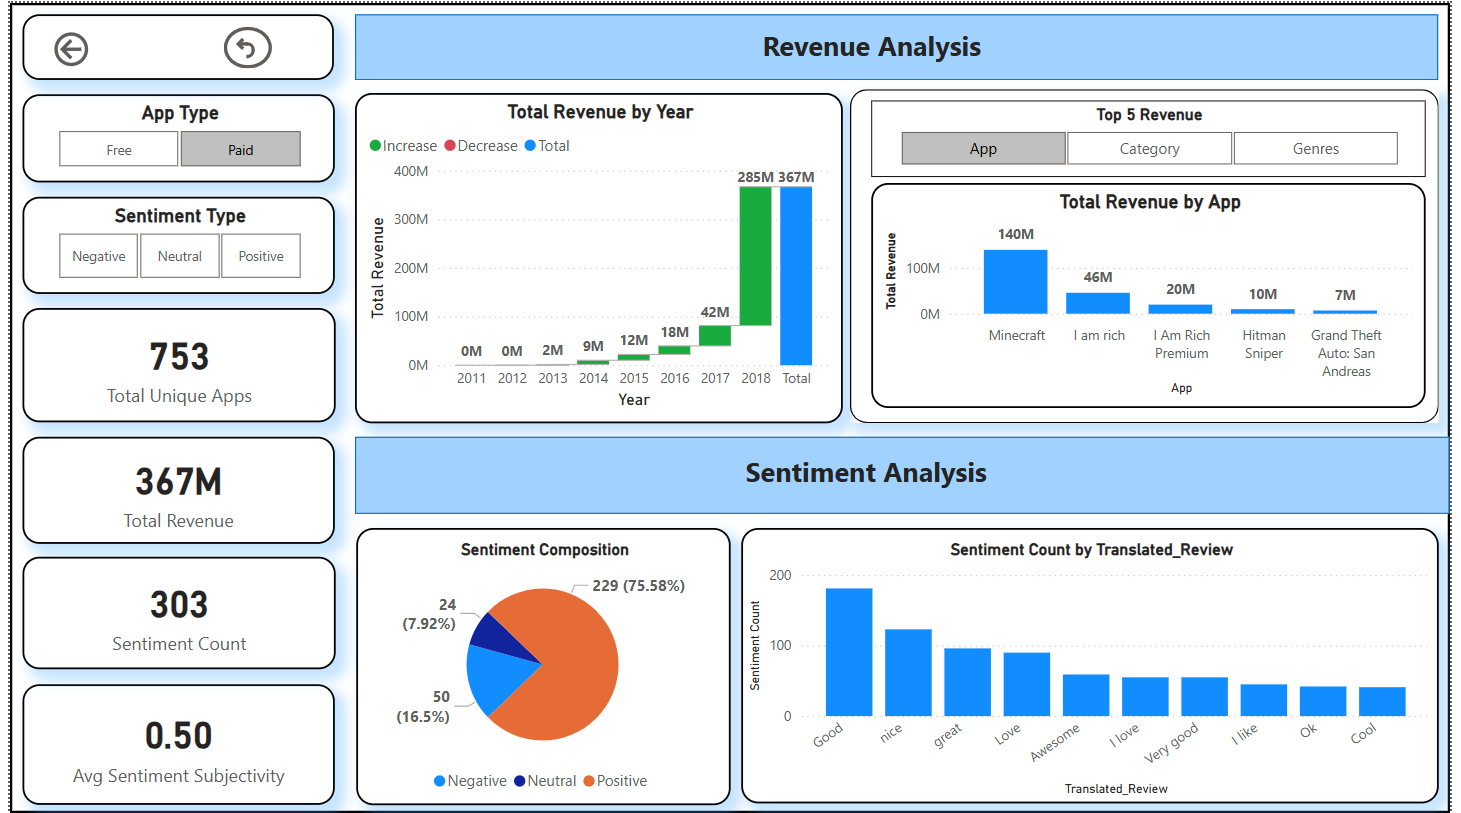

The dashboard page shown, as its layout file describes it:
{"tool":"powerbi","page":{"name":"Revenue & Sentiment","canvas":[1280,720],"ordinal":1},"visuals":[{"type":"shape","box":[0,0,1280,720],"z":0},{"type":"shape","box":[307.1,10,962.9,58.6],"z":1000},{"type":"textbox","box":[598.6,17.1,334.3,47.1],"z":2000},{"type":"slicer","title":"App Type","fields":{"Values":["Playstore_Cleaned.Type"]},"box":[11.2,81.2,277.5,78.8],"z":3000},{"type":"slicer","title":"Sentiment Type","fields":{"Values":["Reviews_Cleaned.Sentiment"]},"box":[11.2,172.5,277.5,86.2],"z":4000},{"type":"card","fields":{"Values":["All_Measures.Total Unique Apps"]},"box":[11.2,271.2,278.8,101.2],"z":5000},{"type":"card","fields":{"Values":["All_Measures.Avg Sentiment Subjectivity"]},"box":[11.2,605,277.5,107.5],"z":6000},{"type":"card","fields":{"Values":["All_Measures.Total Revenue"]},"box":[11.2,385,277.5,95],"z":7000},{"type":"card","fields":{"Values":["All_Measures.Sentiment Count"]},"box":[11.2,492.5,278.8,100],"z":8000},{"type":"waterfallChart","fields":{"Y":["All_Measures.Total Revenue"],"Category":["DimDate.Year"]},"box":[306.7,80,433.3,293.3],"z":9000},{"type":"shape","box":[746.7,76.7,523.3,296.7],"z":12000},{"type":"clusteredColumnChart","fields":{"Category":["Playstore_Cleaned.App"],"Y":["All_Measures.Total Revenue"]},"box":[765.7,160,492.9,200],"z":13000},{"type":"shape","box":[11.4,10,277.1,58.6],"z":14000},{"type":"slicer","title":"Top 5 Revenue","fields":{"Values":["revenue category.revenue category"]},"box":[765.4,86.9,493.1,67.7],"z":15000},{"type":"actionButton","box":[34.3,21.4,100,40],"z":16000},{"type":"actionButton","box":[190,21.4,42.9,37.1],"z":17000},{"type":"shape","box":[307.1,385.7,972.9,68.6],"z":18000},{"type":"textbox","box":[588.6,395.7,344.3,47.1],"z":19000},{"type":"pieChart","title":"Sentiment Composition","fields":{"Category":["Reviews_Cleaned.Sentiment"],"Y":["All_Measures.Sentiment Count"]},"box":[307.5,466.2,332.5,246.2],"z":20000},{"type":"clusteredColumnChart","fields":{"Category":["Reviews_Cleaned.Translated_Review"],"Y":["All_Measures.Sentiment Count"]},"box":[650,466.2,620,245],"z":21000}]}

Visuals, with their boxes in screenshot pixels (x1, y1, x2, y2), scaled from the page's 1280x720 canvas onto the 1461x813 screenshot:
shape: x1=0 y1=0 x2=1460 y2=812
shape: x1=351 y1=11 x2=1450 y2=77
textbox: x1=683 y1=19 x2=1065 y2=72
"App Type" slicer: x1=13 y1=92 x2=330 y2=181
"Sentiment Type" slicer: x1=13 y1=195 x2=330 y2=292
card - All_Measures.Total Unique Apps: x1=13 y1=306 x2=331 y2=421
card - All_Measures.Avg Sentiment Subjectivity: x1=13 y1=683 x2=330 y2=805
card - All_Measures.Total Revenue: x1=13 y1=435 x2=330 y2=542
card - All_Measures.Sentiment Count: x1=13 y1=556 x2=331 y2=669
waterfallChart - All_Measures.Total Revenue x DimDate.Year: x1=350 y1=90 x2=845 y2=422
shape: x1=852 y1=87 x2=1450 y2=422
clusteredColumnChart - Playstore_Cleaned.App x All_Measures.Total Revenue: x1=874 y1=181 x2=1437 y2=406
shape: x1=13 y1=11 x2=329 y2=77
"Top 5 Revenue" slicer: x1=874 y1=98 x2=1436 y2=175
actionButton: x1=39 y1=24 x2=153 y2=69
actionButton: x1=217 y1=24 x2=266 y2=66
shape: x1=351 y1=436 x2=1460 y2=513
textbox: x1=672 y1=447 x2=1065 y2=500
"Sentiment Composition" pieChart: x1=351 y1=526 x2=730 y2=804
clusteredColumnChart - Reviews_Cleaned.Translated_Review x All_Measures.Sentiment Count: x1=742 y1=526 x2=1450 y2=803
